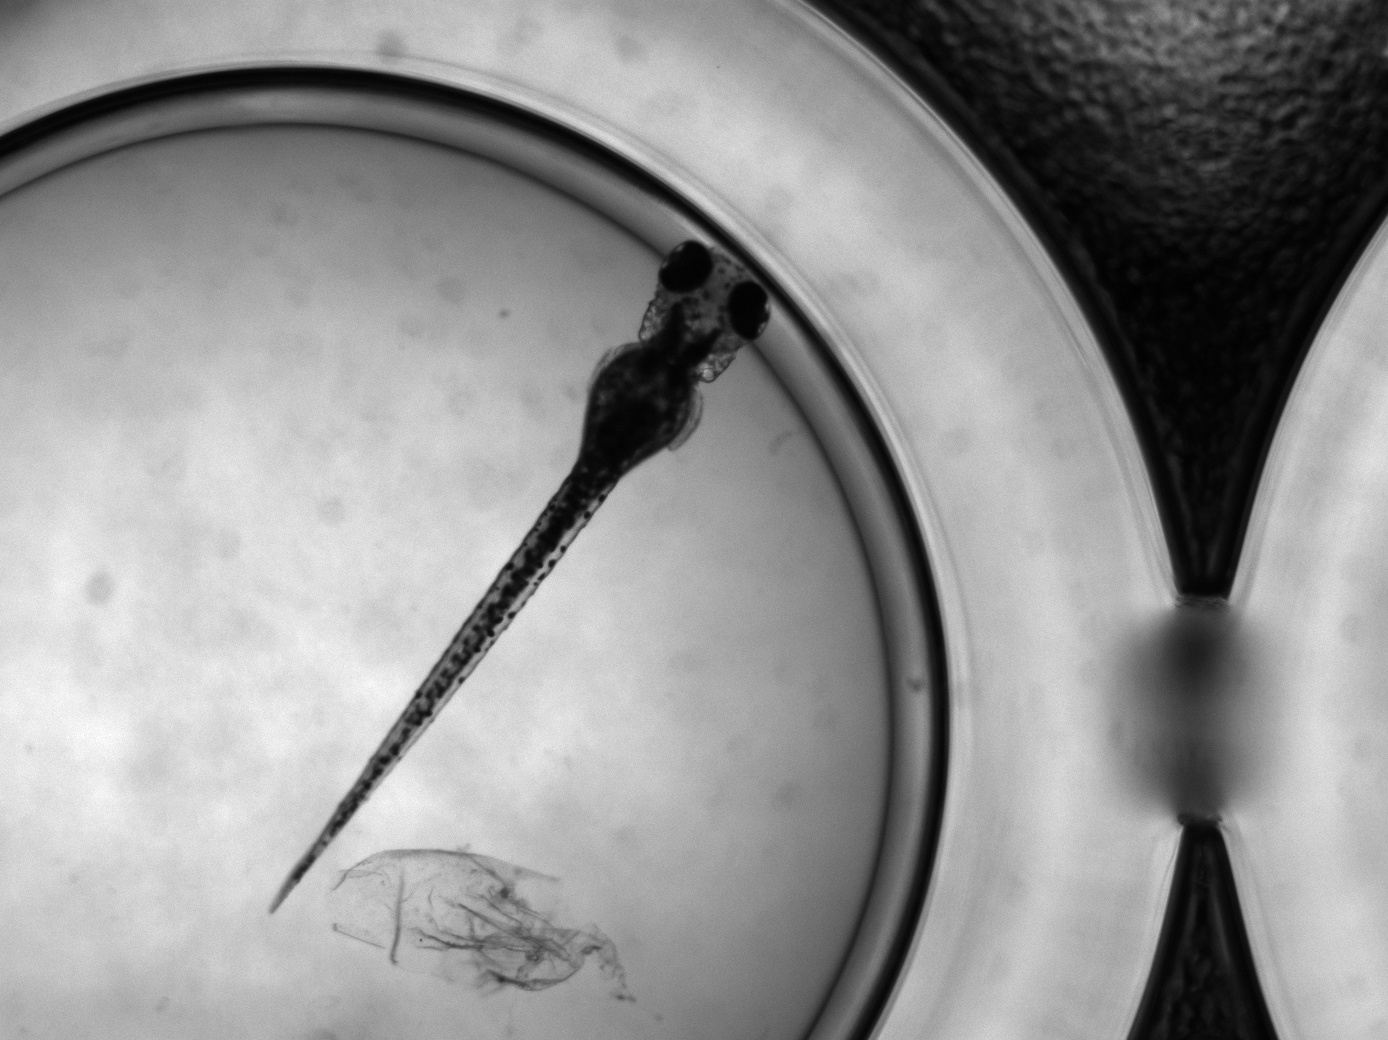debris: (322, 846, 639, 1008)
embryo: (270, 241, 772, 914)
eye: (659, 243, 712, 292), (727, 281, 770, 341)
yolksac: (586, 348, 689, 460)
